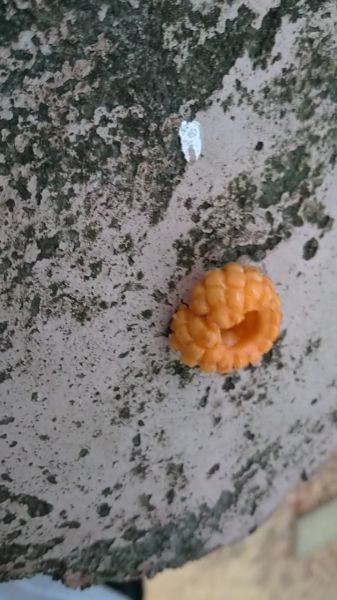eggs: (160, 252, 289, 372)
